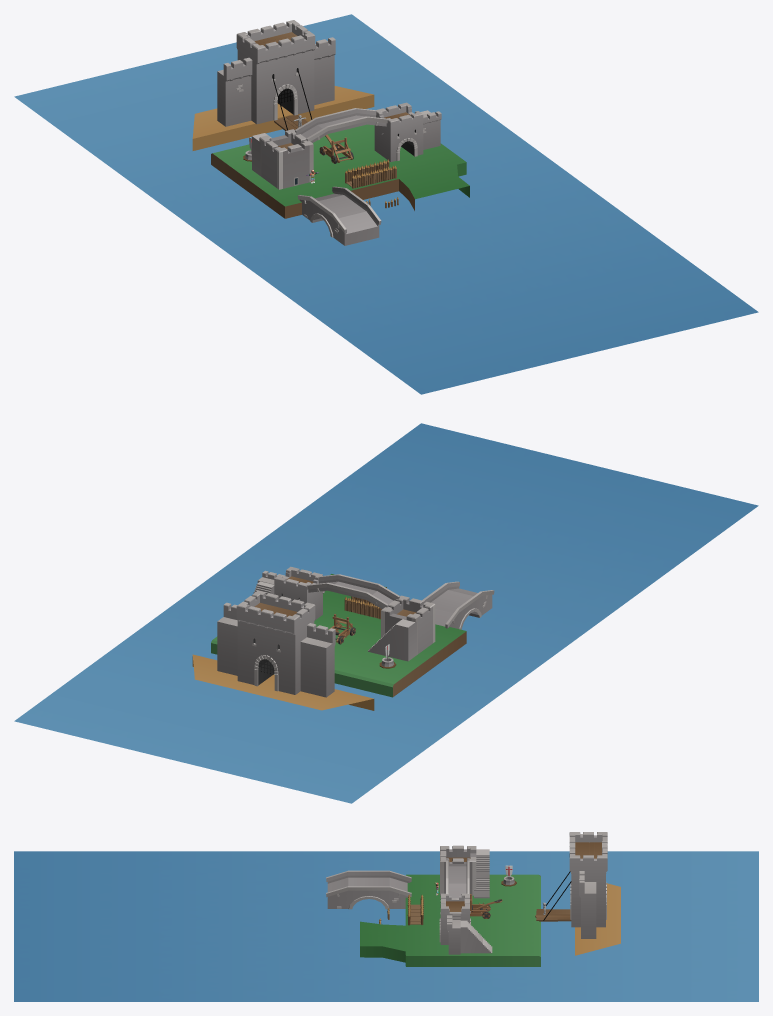
The model's file is map1.fbx.
The picture shows the model from 3 angles, top to bottom: view 1: azimuth 30°, elevation 25°; view 2: azimuth 150°, elevation 25°; view 3: azimuth 270°, elevation 25°; orthographic projection. The views are drawn at different scales.
Parts seen in each view (by area): view 1: pPlane4, polySurface41, gate-medieval_medium, bridge-medieval_stone1, polySurface37, tower-castle_square, polySurface38, bridge-medieval_stone, wall-medieval_wood2; view 2: pPlane4, gate-medieval_medium, polySurface41, bridge-medieval_stone1, tower-castle_square, polySurface37, bridge-medieval_stone, polySurface36, polySurface38, polySurface40; view 3: pPlane4, polySurface41, gate-medieval_medium, bridge-medieval_stone1, polySurface39, polySurface37, tower-castle_square, bridge-medieval_stone, polySurface43, polySurface36, drawbridge-medieval, wall-medieval_wood2 (+1 smaller).
Boxes of the visible parts, box(x1,y1,x2,y2) form: pPlane4: box(14, 14, 758, 394); polySurface41: box(192, 86, 469, 206); gate-medieval_medium: box(217, 20, 335, 126); bridge-medieval_stone1: box(297, 186, 381, 245); polySurface37: box(374, 102, 441, 161); tower-castle_square: box(259, 129, 313, 189); polySurface38: box(211, 153, 414, 218); bridge-medieval_stone: box(295, 108, 387, 142); wall-medieval_wood2: box(345, 159, 396, 188); pPlane4: box(14, 423, 758, 803); gate-medieval_medium: box(217, 590, 335, 697); polySurface41: box(192, 574, 466, 710); bridge-medieval_stone1: box(422, 581, 494, 629); tower-castle_square: box(381, 595, 435, 654); polySurface37: box(257, 566, 324, 620); bridge-medieval_stone: box(307, 574, 399, 609); polySurface36: box(368, 619, 416, 661); polySurface38: box(386, 587, 466, 696); polySurface40: box(211, 643, 392, 697); pPlane4: box(14, 851, 758, 1001); polySurface41: box(360, 874, 620, 956); gate-medieval_medium: box(569, 832, 607, 938); bridge-medieval_stone1: box(326, 870, 411, 909); polySurface39: box(360, 946, 540, 966); polySurface37: box(439, 893, 470, 954); tower-castle_square: box(440, 845, 476, 895); bridge-medieval_stone: box(446, 858, 469, 898); polySurface43: box(460, 920, 492, 953); polySurface36: box(474, 849, 489, 898); drawbridge-medieval: box(535, 871, 571, 921); wall-medieval_wood2: box(407, 894, 423, 925).
Size of the model in its own units: 45.18 by 18.16 by 94.33.
Materials: 2 (1 with a texture image).
